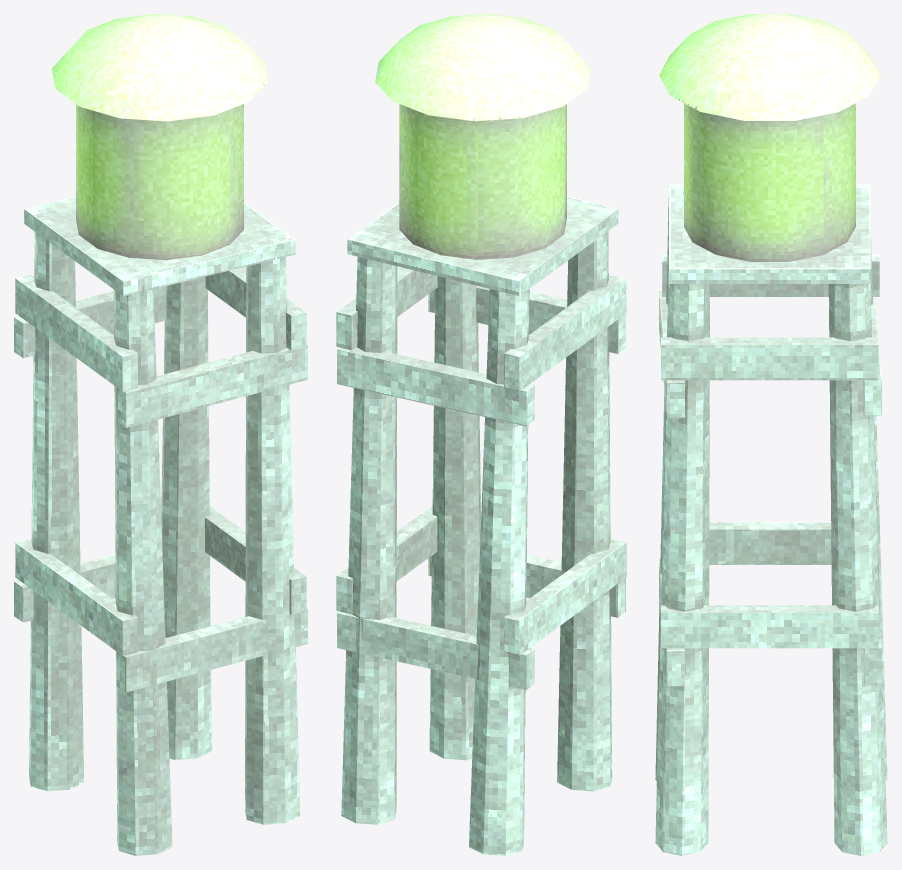
File: Water_Post.glb
3 views of the same model, side by side, from view 1: azimuth 30°, elevation 25°; view 2: azimuth 150°, elevation 25°; view 3: azimuth 270°, elevation 25° (orthographic).
Parts seen in each view (by area): view 1: Water-Post; view 2: Water-Post; view 3: Water-Post.
Part boxes in pixels (x1,y1,x2,y2): Water-Post: (14, 14, 307, 855); Water-Post: (336, 14, 626, 855); Water-Post: (655, 14, 887, 855).
Size of the model in its own units: 2.61 by 10.04 by 2.7.
